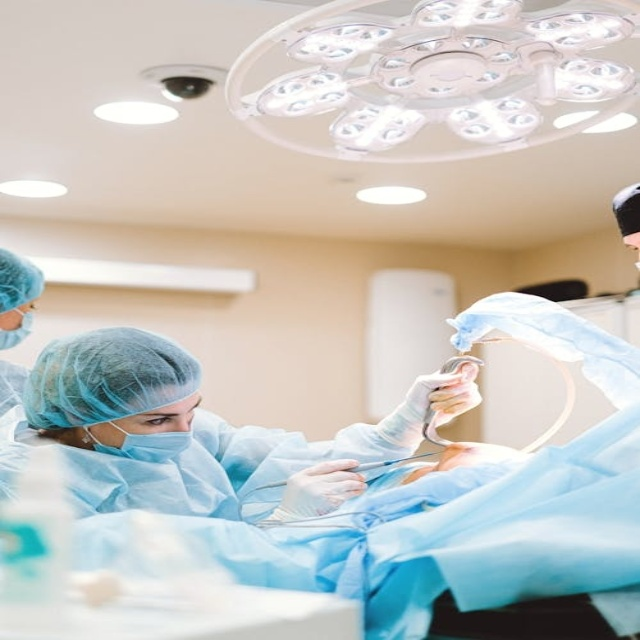Guantes: (375, 363, 481, 448), (274, 459, 366, 521)
Mascara: (84, 414, 194, 464), (0, 306, 34, 352)
Sin_gafas: (133, 394, 205, 429)
